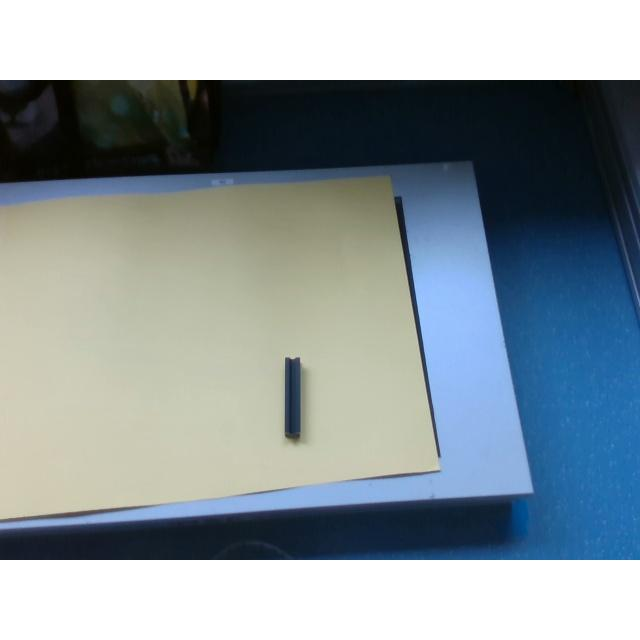F20_20_B: (284, 356, 302, 436)
